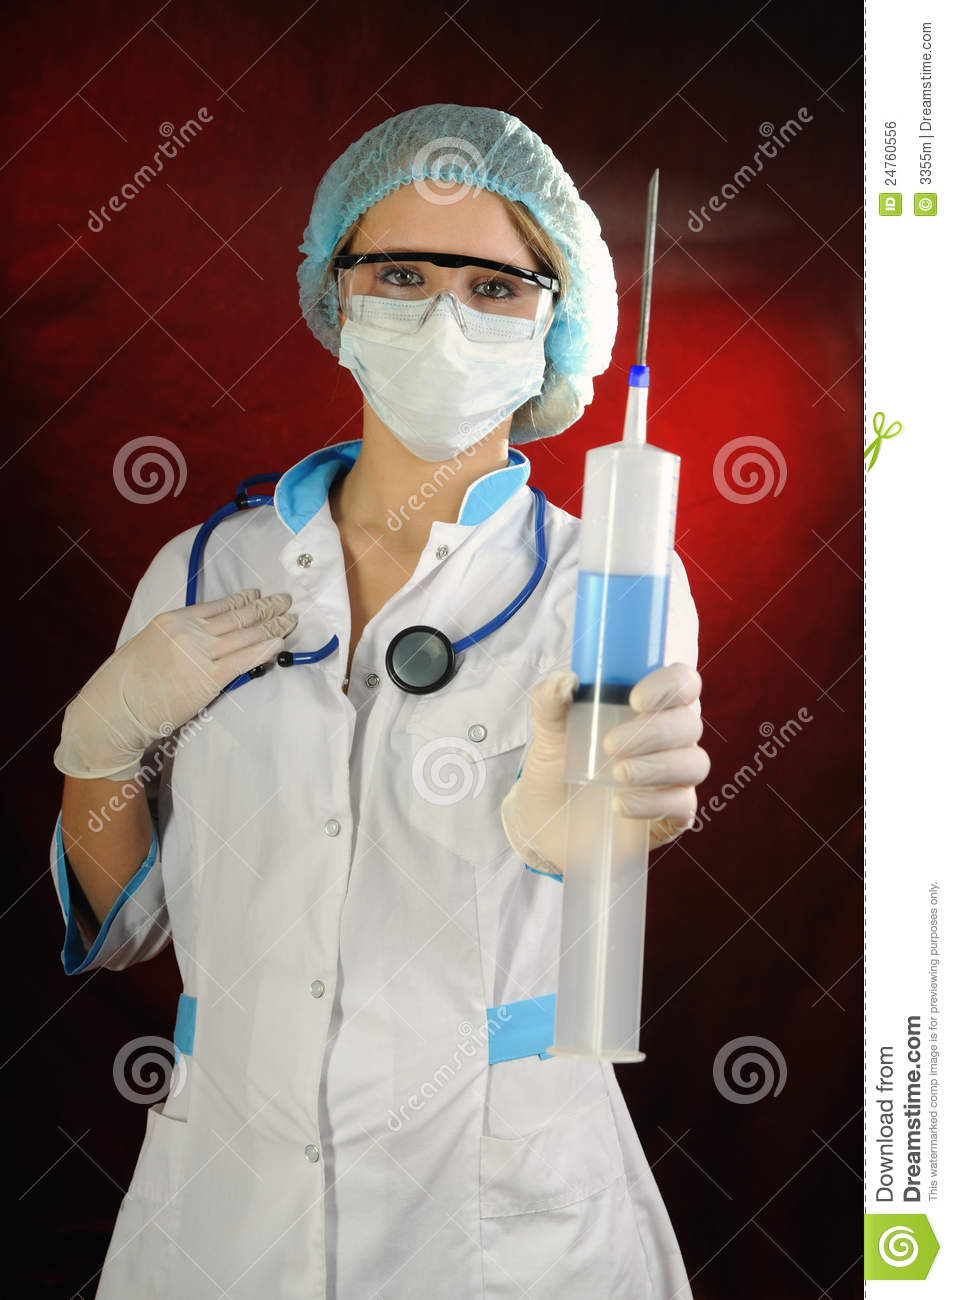mask: (346, 289, 542, 459)
